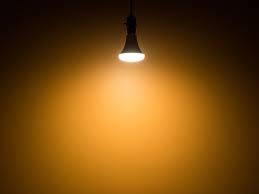bulb: (115, 42, 153, 71)
